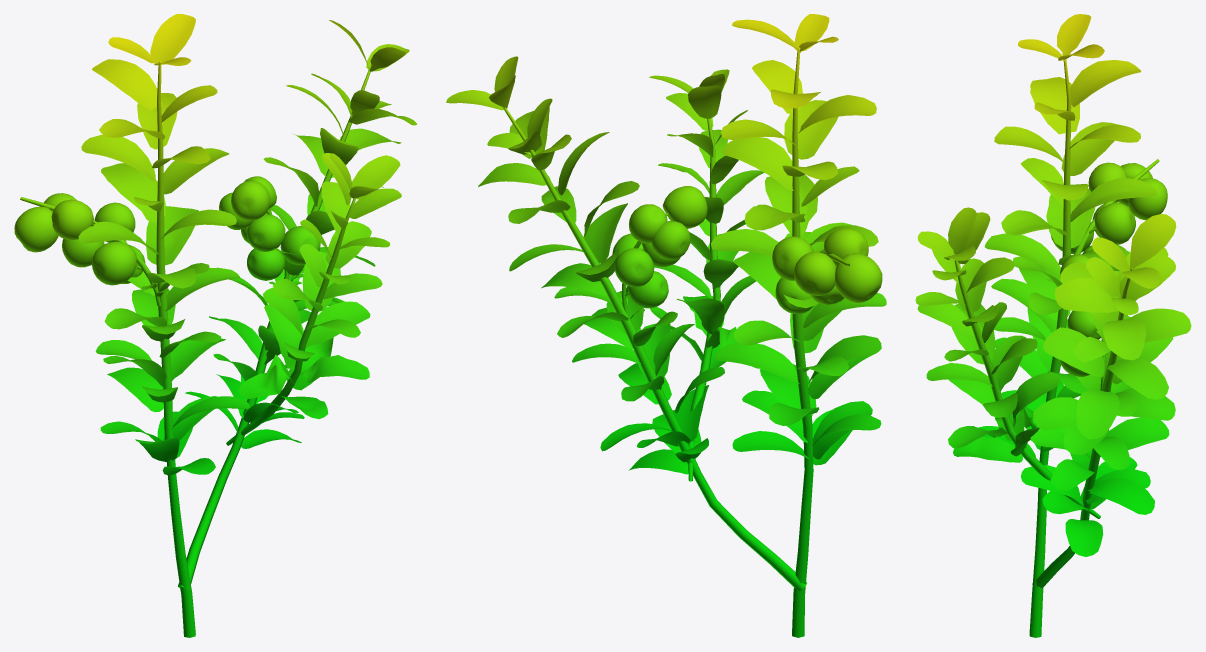
The model's file is Lingonberry_LOD0_Var9.fbx.
3 renders of one model, left to right at view 1: azimuth 30°, elevation 25°; view 2: azimuth 150°, elevation 25°; view 3: azimuth 270°, elevation 25°, orthographic. The views are drawn at different scales.
Parts seen in each view (by area): view 1: _abe6_Var9_LOD0; view 2: _abe6_Var9_LOD0; view 3: _abe6_Var9_LOD0.
Part boxes in pixels (x1,y1,x2,y2): _abe6_Var9_LOD0: (14, 14, 416, 637); _abe6_Var9_LOD0: (446, 14, 886, 637); _abe6_Var9_LOD0: (915, 14, 1191, 637).
Bounding box in the file's own units: 11.58 × 16.4 × 6.89.
